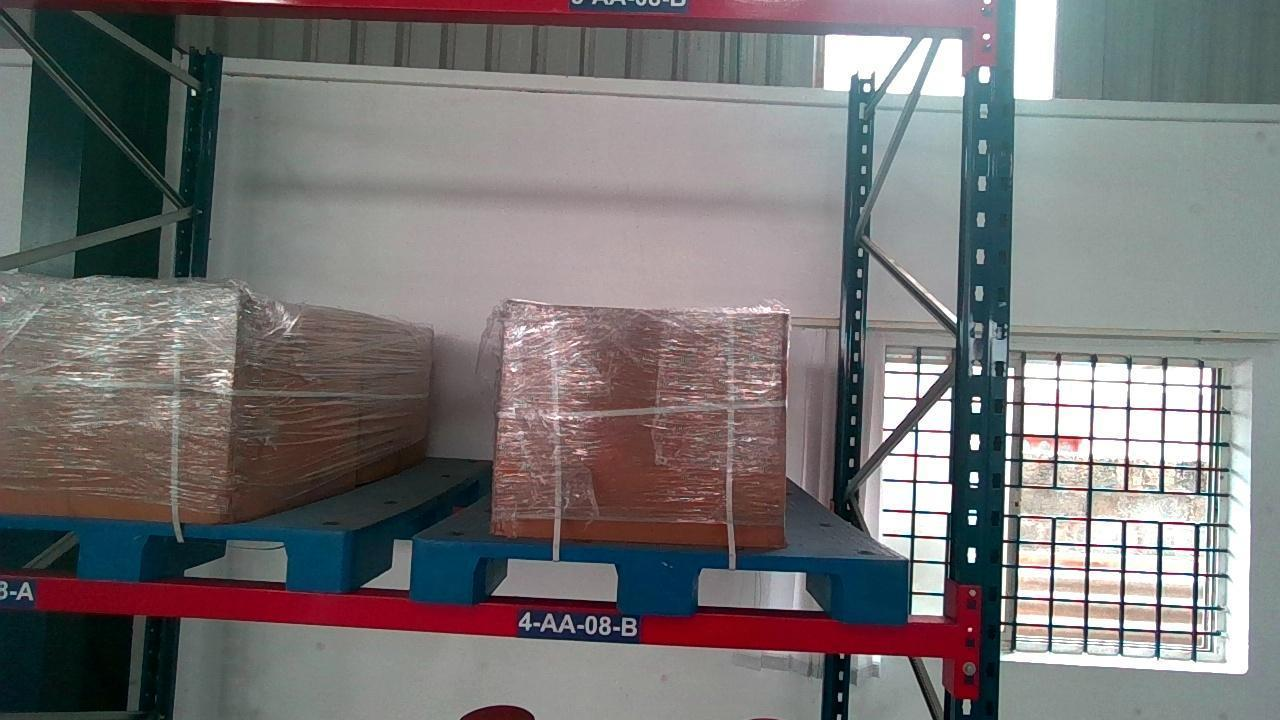h_rack: (0, 578, 948, 662), (228, 0, 975, 26)
small_pallet: (408, 541, 907, 618), (0, 518, 353, 585)
